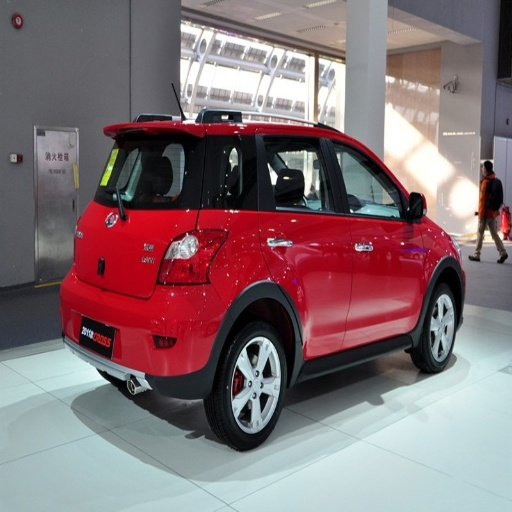back_bumper: (60, 264, 230, 399)
back_right_door: (238, 133, 352, 351)
trunk: (79, 203, 194, 298)
